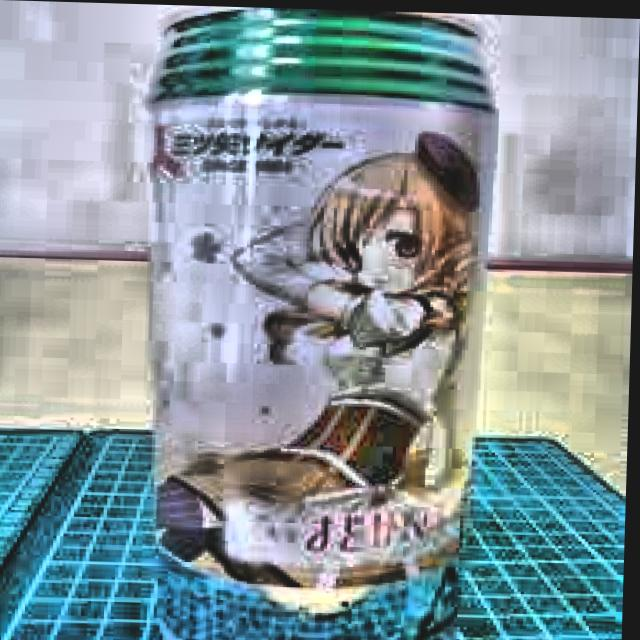can: (129, 3, 508, 640)
